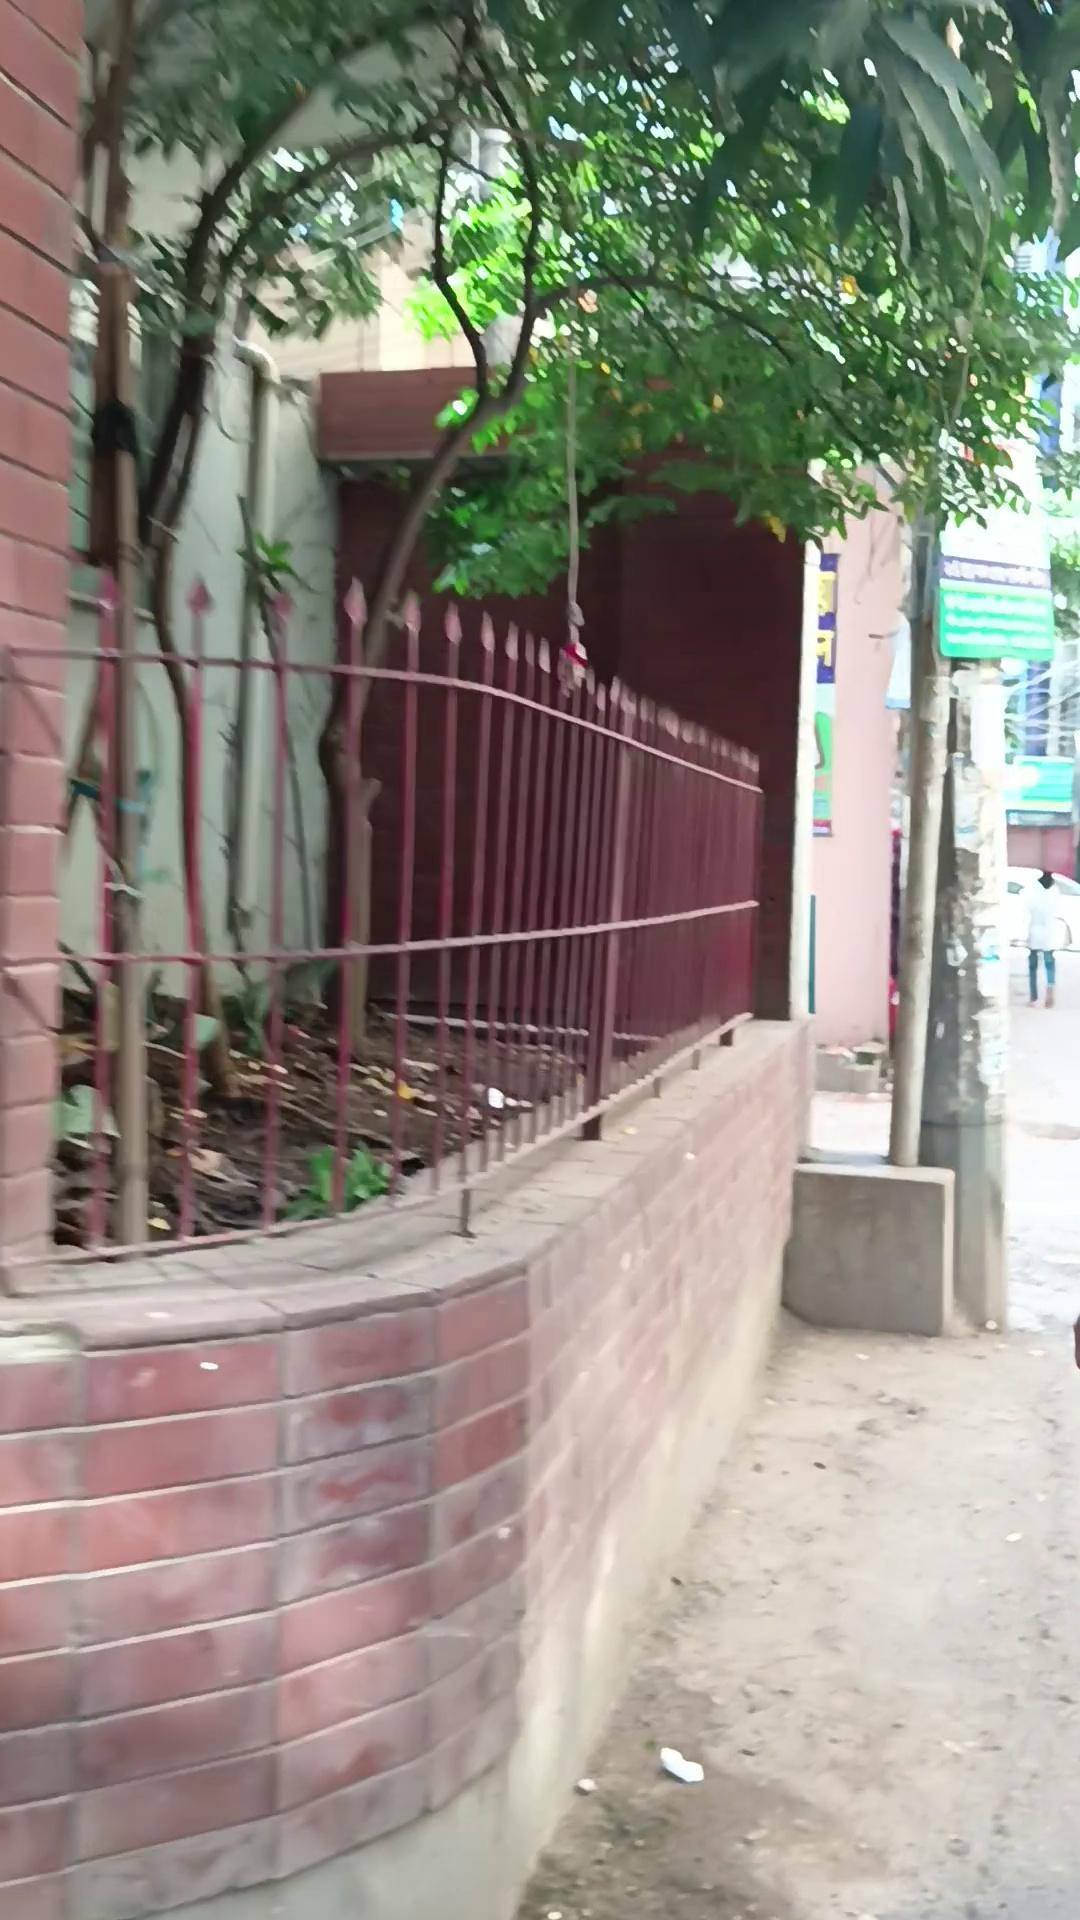Crosswalk: (1, 1005, 818, 1916)
Motorcycle: (779, 1156, 956, 1336)
Muddy road: (1019, 868, 1063, 1007)
Obstacle: (885, 498, 951, 1167)
Stuck-water: (934, 576, 1055, 662)
